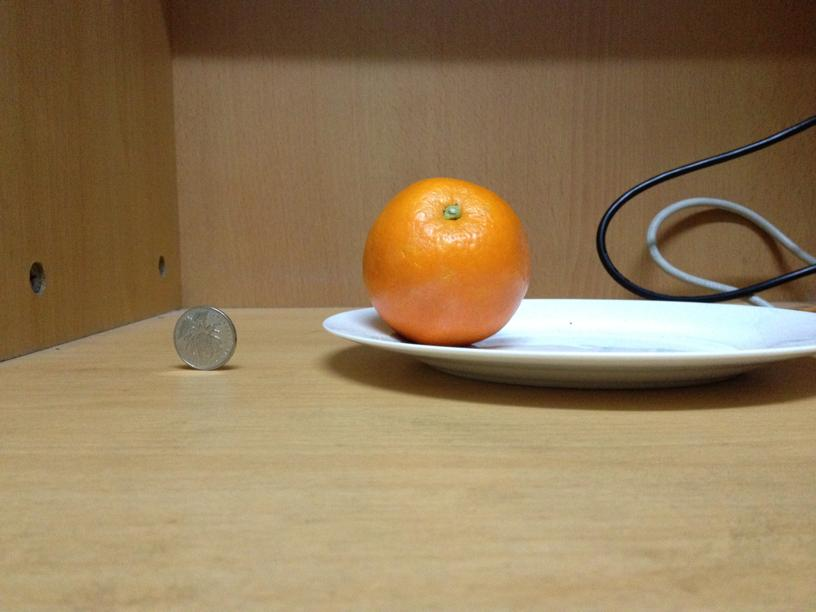coin: (173, 306, 234, 369)
orange: (361, 176, 532, 343)
